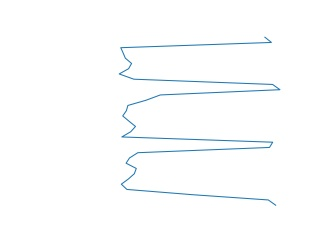majorRiverChannelBar: (116, 38, 282, 207)
